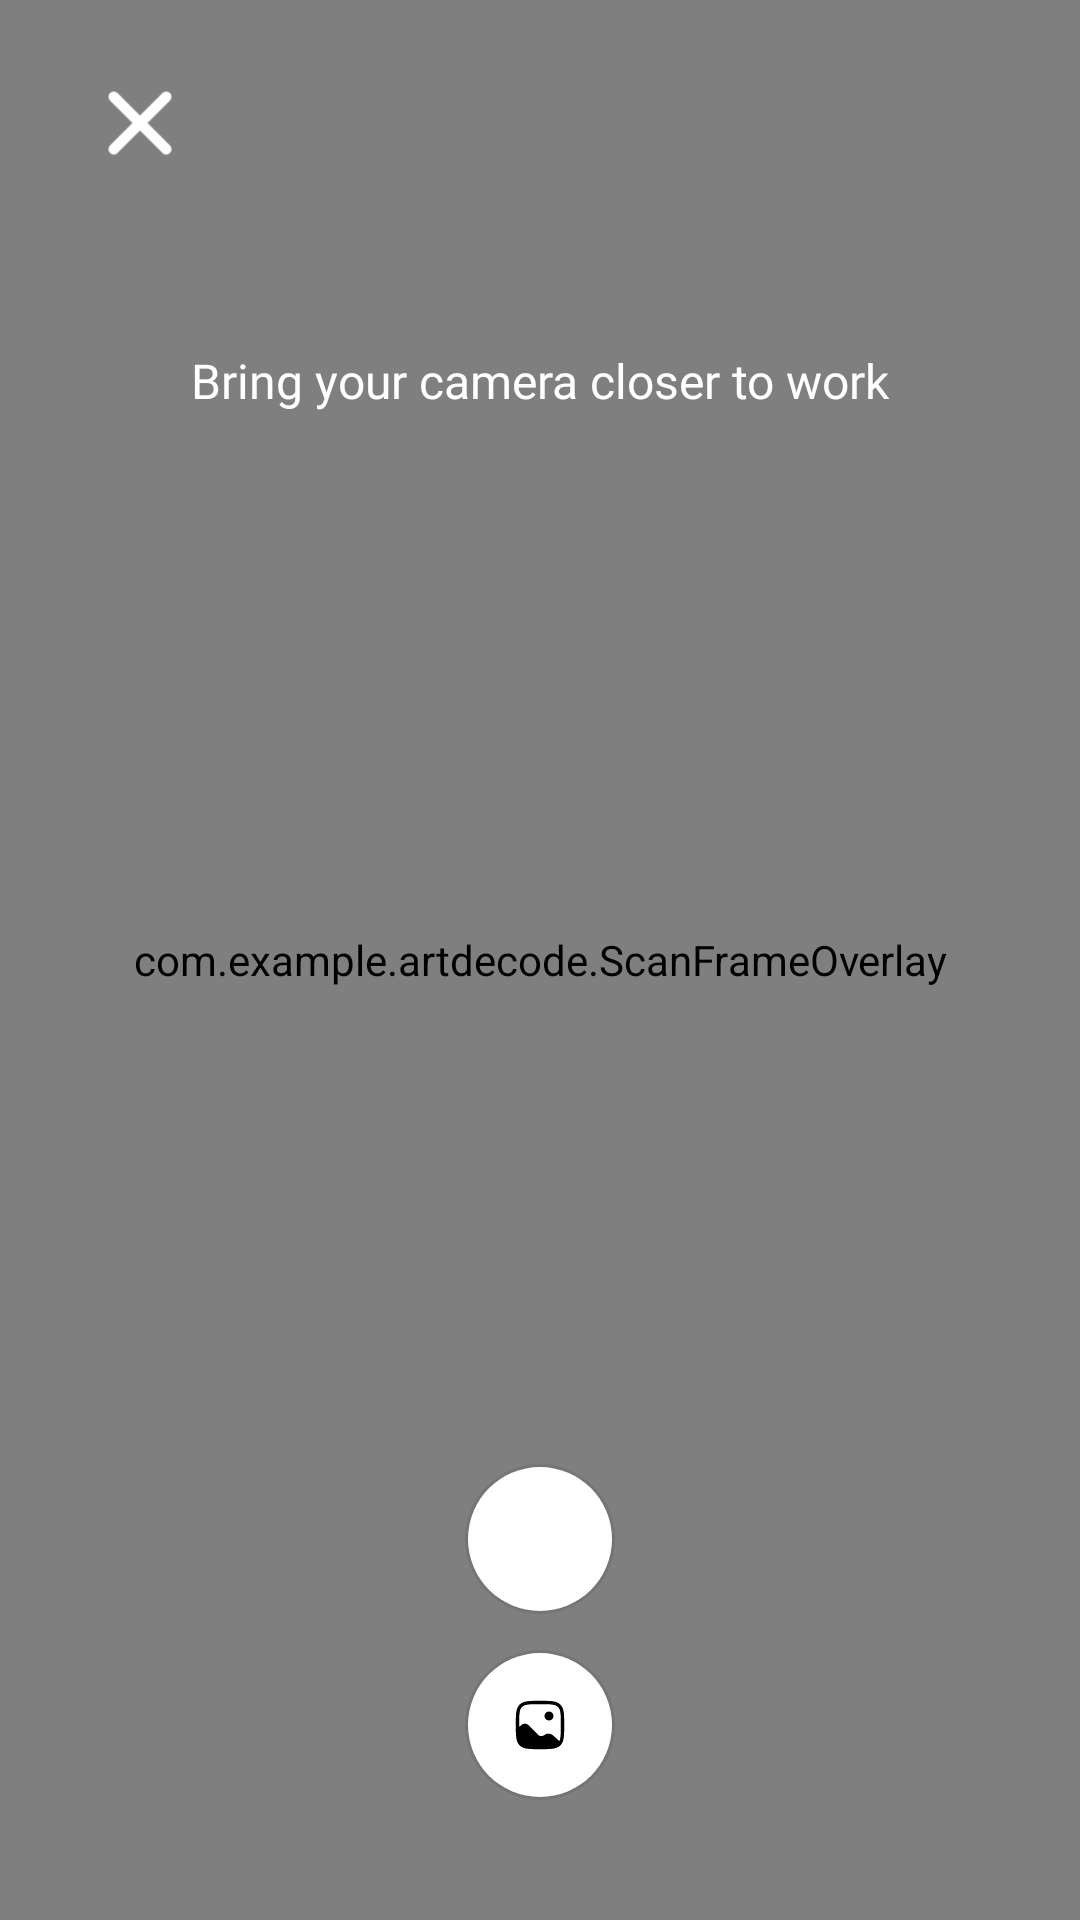

Named icons in this screenshot (1080*1920) and their centers, point (x, y):
gallery: point (540, 1725)
